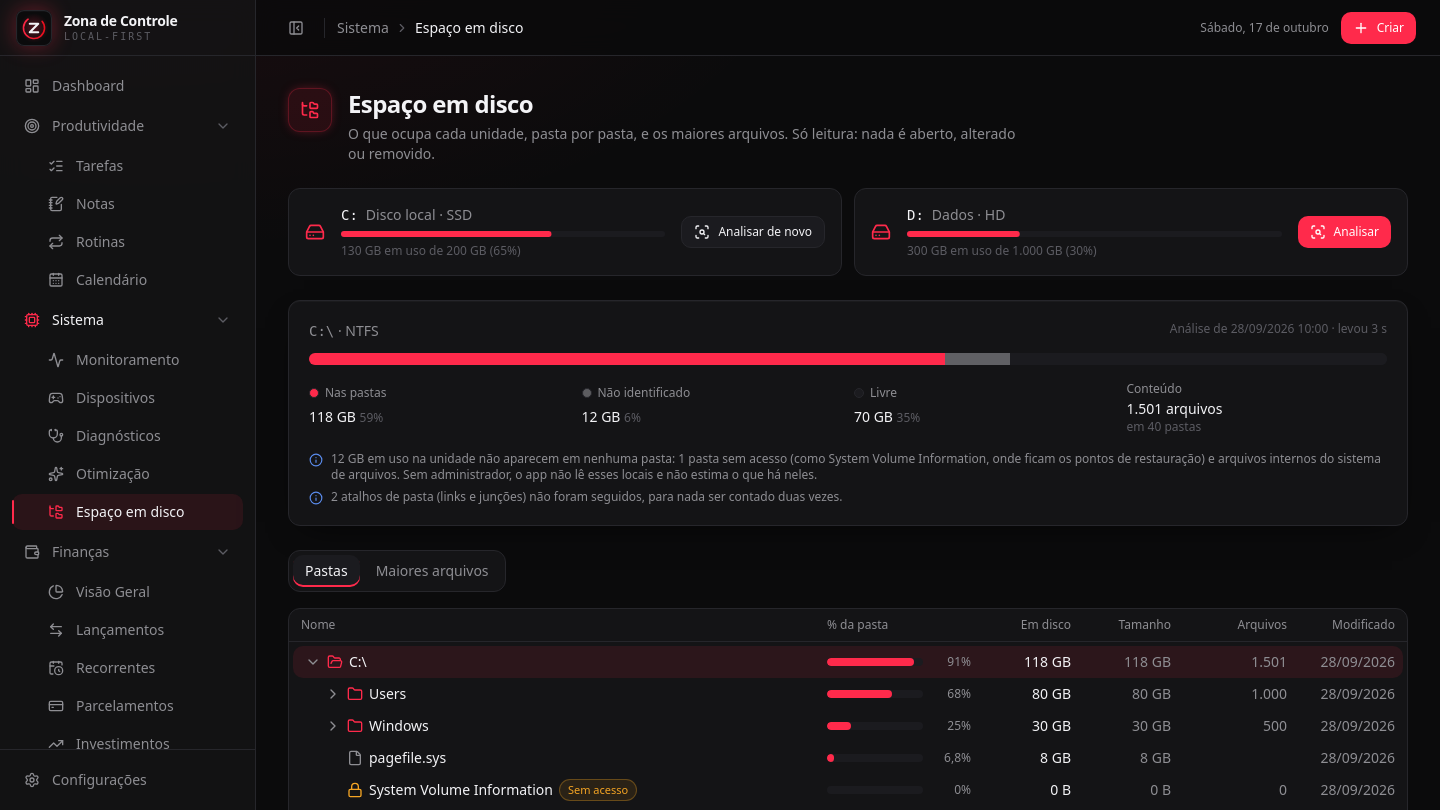
Test case: página Espaço em disco › mostra o erro e mantém a análise anterior
This screenshot has width=1440, height=810.
Click the button with aria-label "Analisar a unidade D:": (1344, 232) [1298, 216, 1391, 248]
(page scrolled)
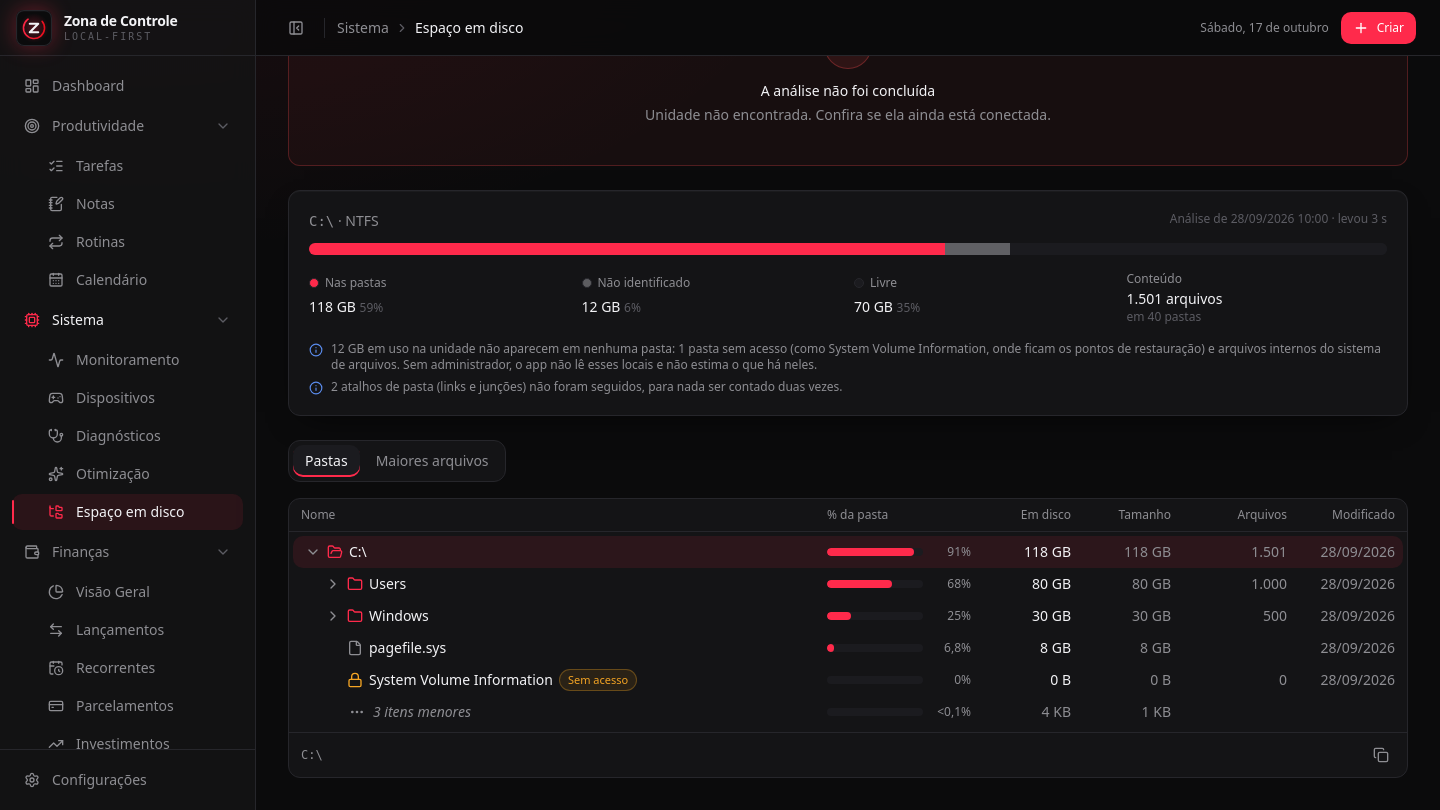
Expected: the element named "Pastas de C:\\" is shown, [289, 532, 1407, 732]
Expected: the text "A análise não foi concluída" is shown, [761, 81, 935, 100]
Expected: the text "Unidade não encontrada. Confira se ela ainda está conectada." is shown, [645, 105, 1051, 125]
